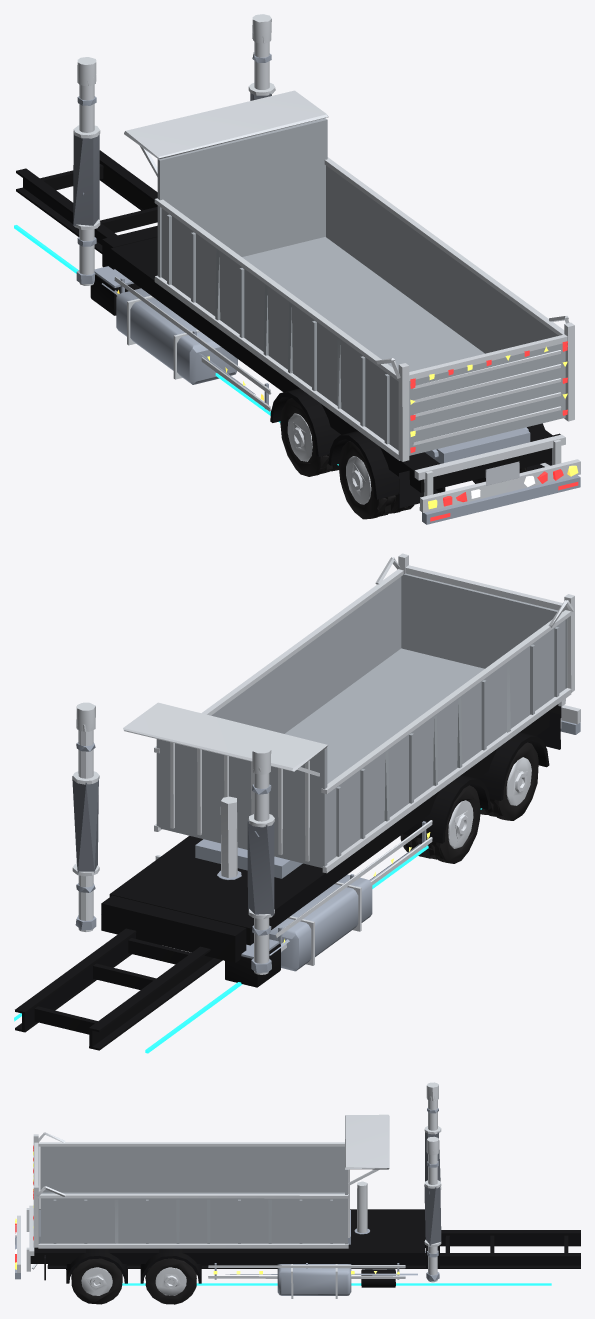
The model's file is body_dump_lod1.glb.
The picture shows the model from 3 angles, top to bottom: view 1: azimuth 30°, elevation 25°; view 2: azimuth 150°, elevation 25°; view 3: azimuth 270°, elevation 25°; orthographic projection. The views are drawn at different scales.
Visible parts, largest first — view 1: lod1_dump_bed, lod1_chrome, lod1frame_plastic_black, lod1frame_steel, lod1frame_chrome, lod1_steel, lod1_rubber_tire, lod1frame_mesh_perf, lod1_lamp_red, lod1_rubber, lod1frame_lamp_cyan; view 2: lod1_dump_bed, lod1frame_plastic_black, lod1_chrome, lod1frame_steel, lod1frame_chrome, lod1frame_mesh_perf, lod1_rubber_tire, lod1_steel, lod1frame_lamp_cyan; view 3: lod1_dump_bed, lod1frame_plastic_black, lod1_chrome, lod1frame_steel, lod1_rubber_tire, lod1frame_chrome, lod1frame_mesh_perf, lod1frame_lamp_cyan, lod1_steel.
Part boxes in pixels (x1=…): lod1_dump_bed: x1=157, y1=118, x2=565, y2=455; lod1_chrome: x1=114, y1=90, x2=580, y2=512; lod1frame_plastic_black: x1=16, y1=150, x2=553, y2=499; lod1frame_steel: x1=76, y1=52, x2=271, y2=394; lod1frame_chrome: x1=73, y1=14, x2=275, y2=379; lod1_steel: x1=120, y1=277, x2=580, y2=524; lod1_rubber_tire: x1=280, y1=398, x2=526, y2=519; lod1frame_mesh_perf: x1=73, y1=93, x2=271, y2=226; lod1_lamp_red: x1=410, y1=341, x2=578, y2=521; lod1_rubber: x1=398, y1=433, x2=560, y2=507; lod1frame_lamp_cyan: x1=14, y1=225, x2=338, y2=465; lod1_dump_bed: x1=156, y1=573, x2=567, y2=867; lod1frame_plastic_black: x1=15, y1=704, x2=561, y2=1050; lod1_chrome: x1=123, y1=553, x2=580, y2=951; lod1frame_steel: x1=75, y1=742, x2=420, y2=972; lod1frame_chrome: x1=72, y1=702, x2=361, y2=974; lod1frame_mesh_perf: x1=72, y1=776, x2=274, y2=915; lod1_rubber_tire: x1=400, y1=742, x2=538, y2=863; lod1_steel: x1=195, y1=720, x2=580, y2=952; lod1frame_lamp_cyan: x1=14, y1=808, x2=481, y2=1053; lod1_dump_bed: x1=38, y1=1146, x2=347, y2=1244; lod1frame_plastic_black: x1=30, y1=1209, x2=580, y2=1287; lod1_chrome: x1=17, y1=1114, x2=405, y2=1295; lod1frame_steel: x1=225, y1=1108, x2=439, y2=1295; lod1_rubber_tire: x1=71, y1=1258, x2=196, y2=1304; lod1frame_chrome: x1=291, y1=1082, x2=441, y2=1298; lod1frame_mesh_perf: x1=424, y1=1132, x2=441, y2=1245; lod1frame_lamp_cyan: x1=122, y1=1283, x2=551, y2=1285; lod1_steel: x1=15, y1=1210, x2=399, y2=1279.
Bounding box in the file's own units: 2.97 × 3.75 × 11.48.
13 materials, 2 textured.
